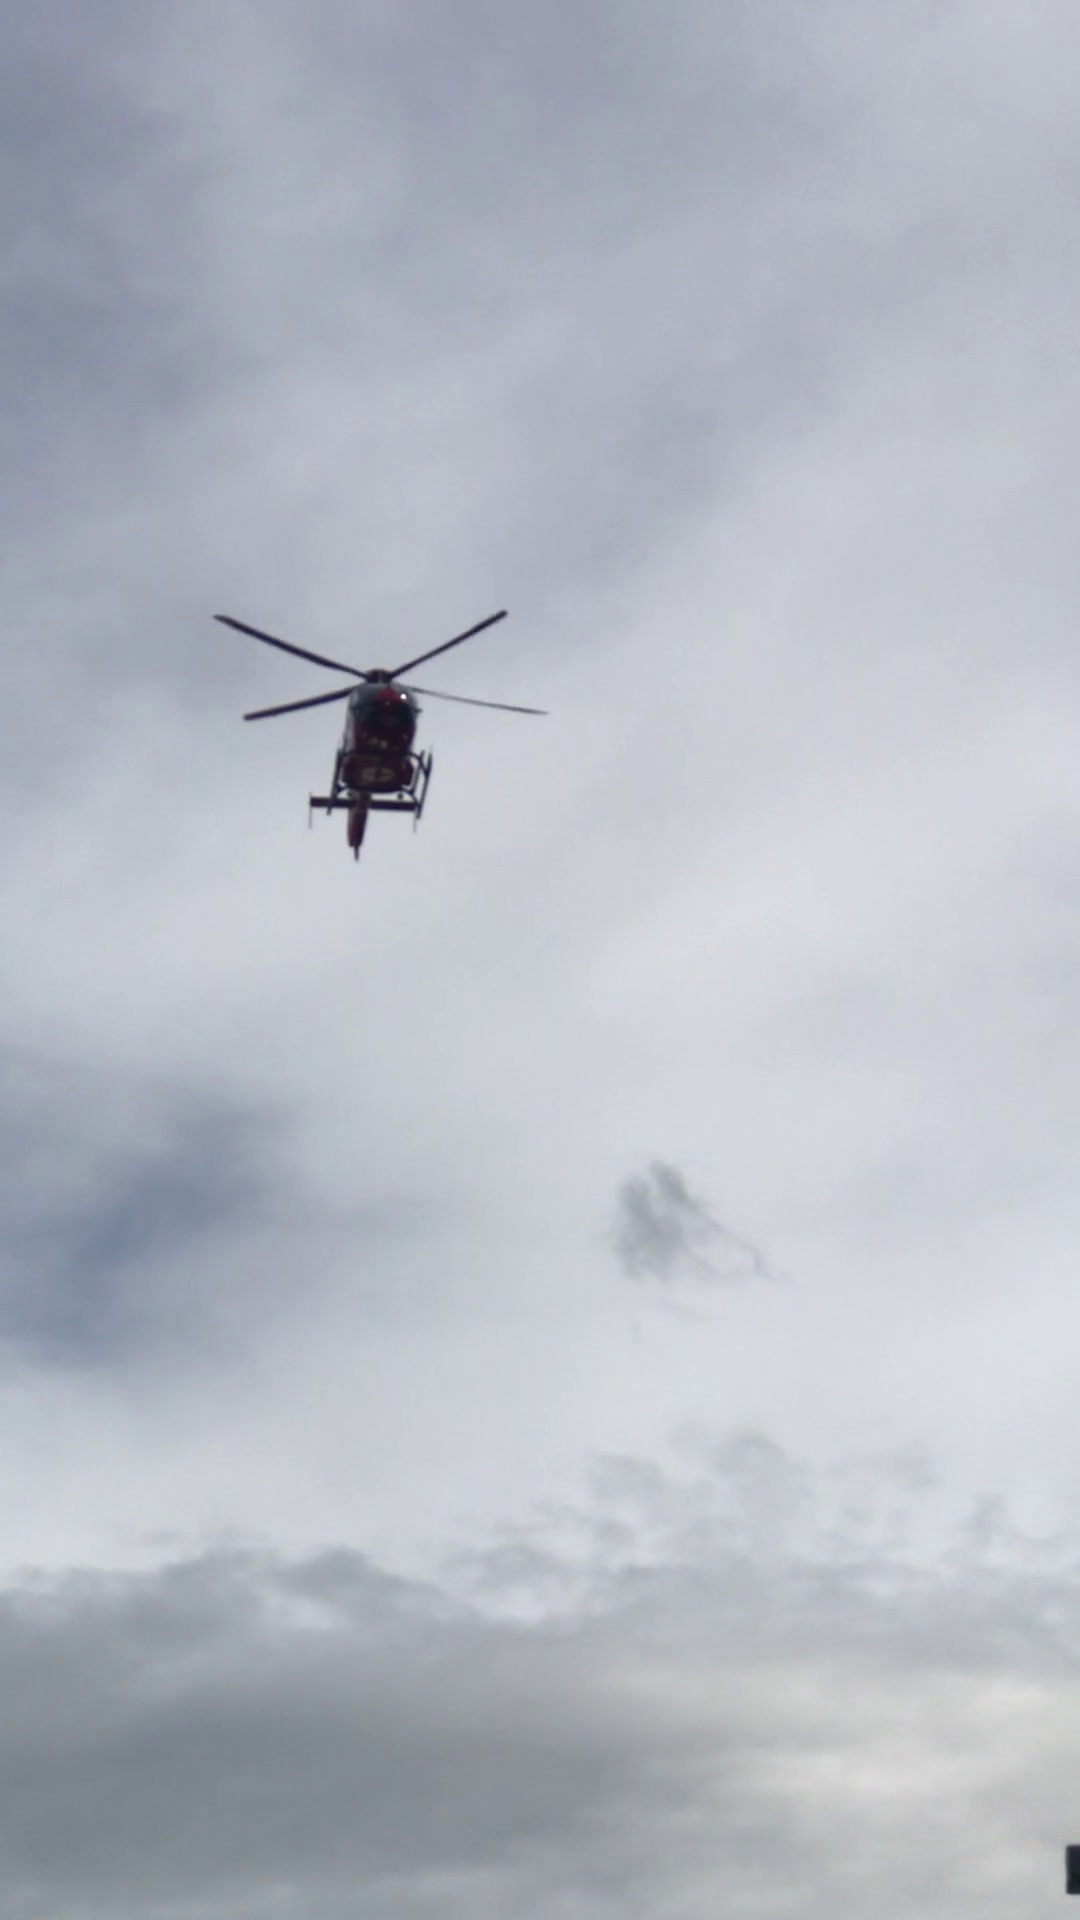heli: (214, 608, 549, 860)
